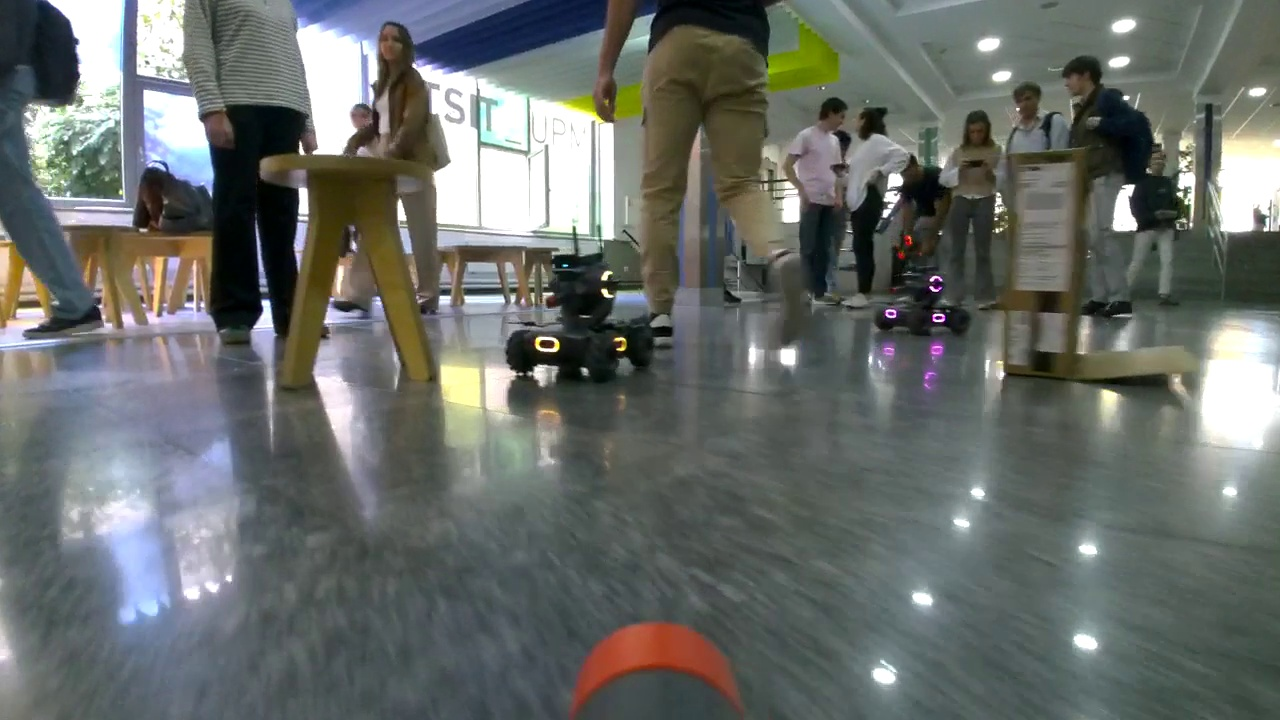robot: (505, 250, 663, 384), (872, 258, 977, 343)
